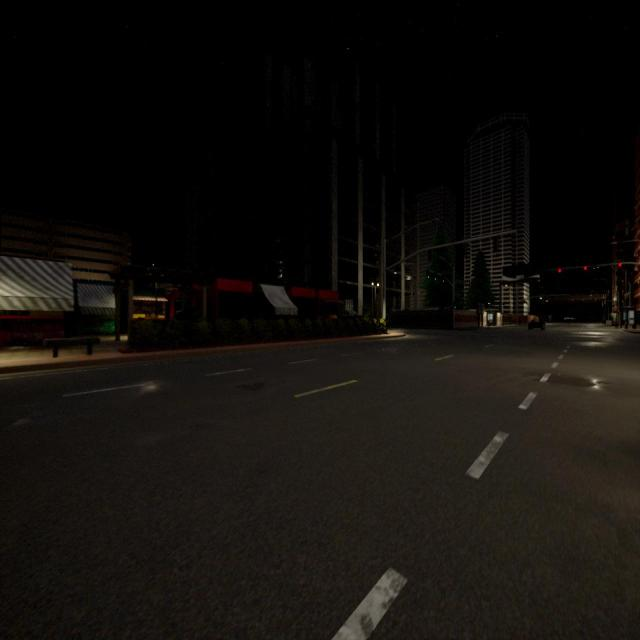Vehicle: (528, 319, 546, 331)
traffic_light: (492, 235, 498, 252), (558, 268, 562, 273), (618, 262, 622, 267), (428, 270, 430, 279), (454, 301, 456, 309), (584, 266, 588, 270), (617, 309, 619, 314), (435, 273, 436, 281), (594, 298, 596, 301), (443, 277, 444, 282), (572, 299, 574, 301), (582, 298, 584, 300)
